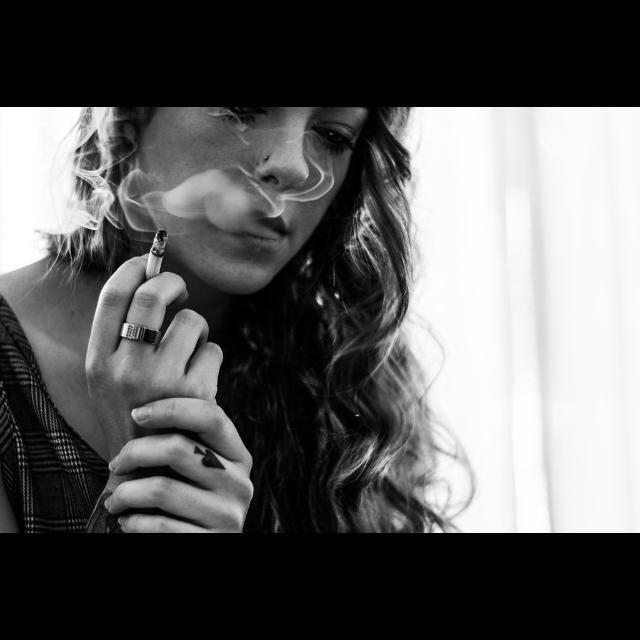rokok: (138, 230, 176, 276)
